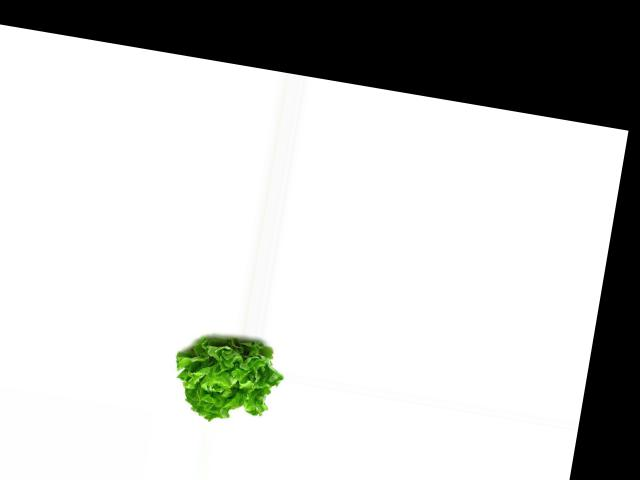lettuce: (169, 326, 287, 431)
